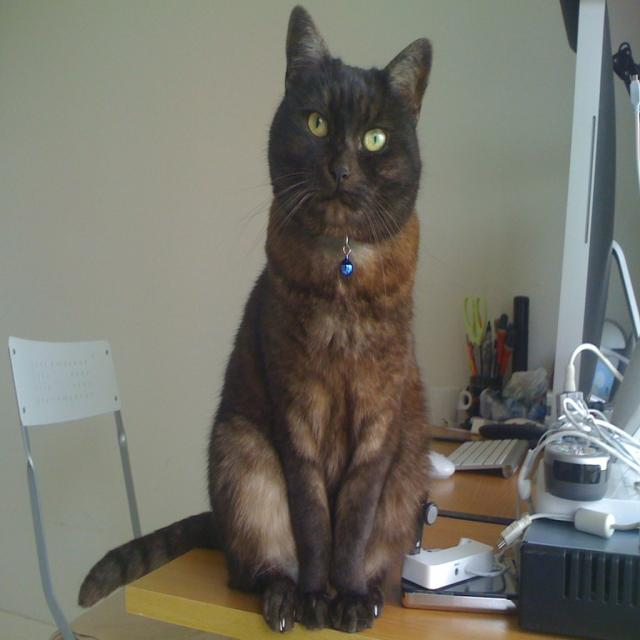Cat: (77, 4, 434, 634)
